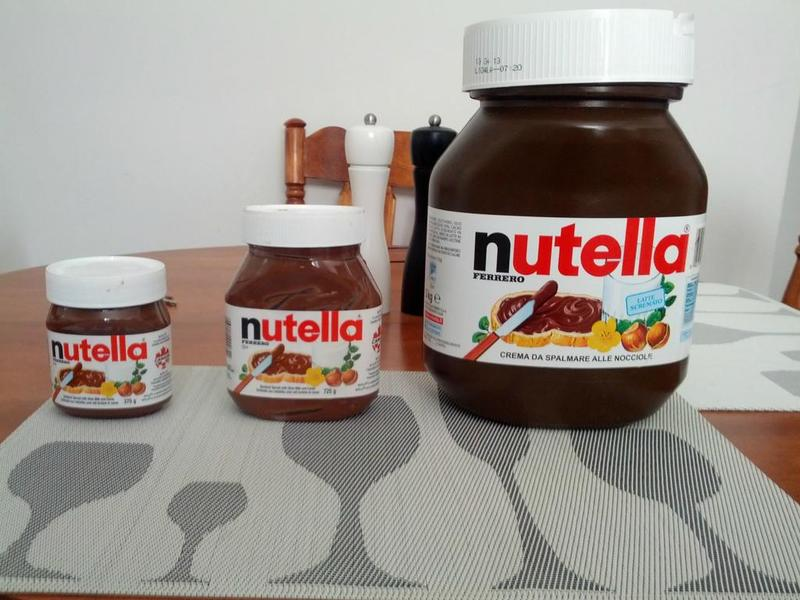nutella: (422, 8, 709, 431), (225, 204, 385, 422), (45, 255, 172, 420)
